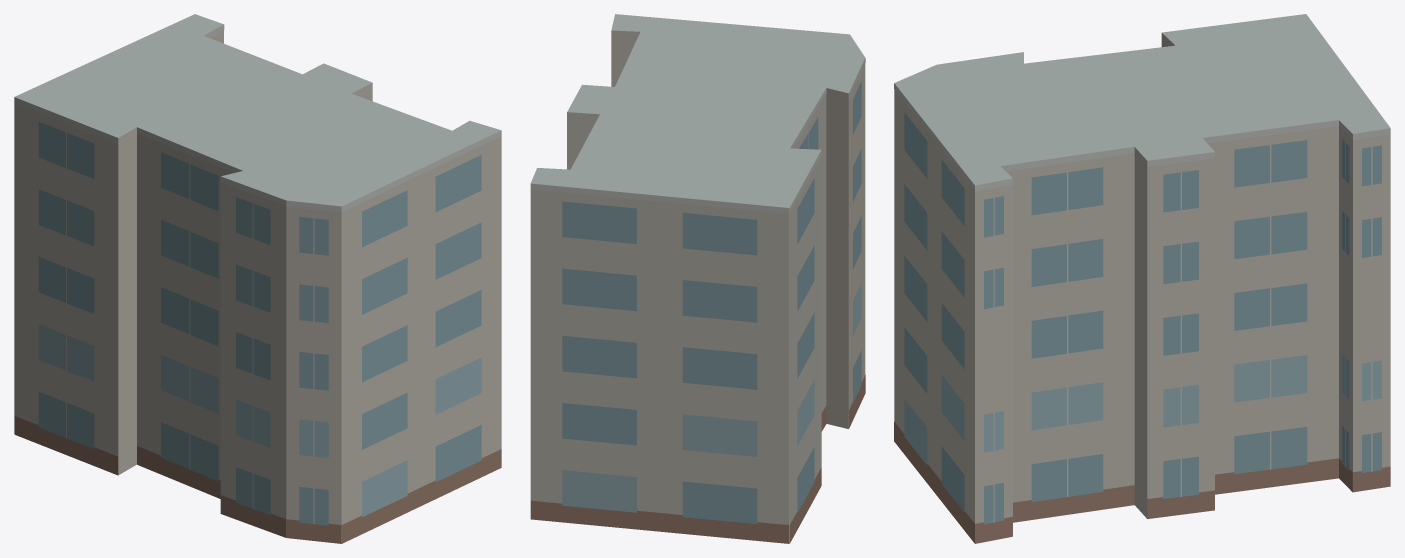
Rendered from survey-upis-32759375.glb.
3 views of the same model, side by side, from view 1: azimuth 30°, elevation 25°; view 2: azimuth 150°, elevation 25°; view 3: azimuth 270°, elevation 25° (orthographic). The views are drawn at different scales.
Visible parts, largest first — view 1: survey-upis-32759375.tmp; view 2: survey-upis-32759375.tmp; view 3: survey-upis-32759375.tmp.
Boxes of the visible parts, box(x1,y1,x2,y2) form: survey-upis-32759375.tmp: box(14, 14, 501, 543); survey-upis-32759375.tmp: box(530, 14, 865, 543); survey-upis-32759375.tmp: box(894, 14, 1390, 543).
Bounding box in the file's own units: 14.44 × 14.05 × 17.66.
